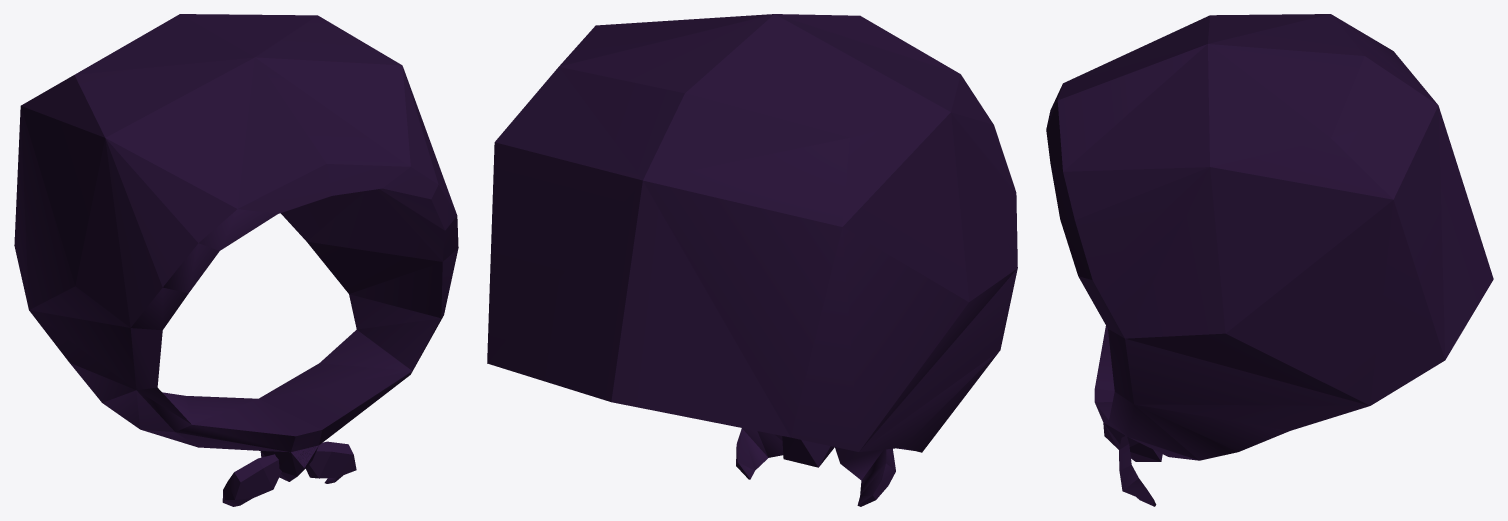
File: Hood.fbx
3 renders of one model, left to right at view 1: azimuth 30°, elevation 25°; view 2: azimuth 150°, elevation 25°; view 3: azimuth 270°, elevation 25°, orthographic. The views are drawn at different scales.
Parts seen in each view (by area): view 1: Hood; view 2: Hood; view 3: Hood.
Part boxes in pixels (<box>): Hood: <box>14,14,458,506</box>; Hood: <box>487,14,1017,506</box>; Hood: <box>1046,14,1493,506</box>.
Bounding box in the file's own units: 66.66 × 78.07 × 72.12.
